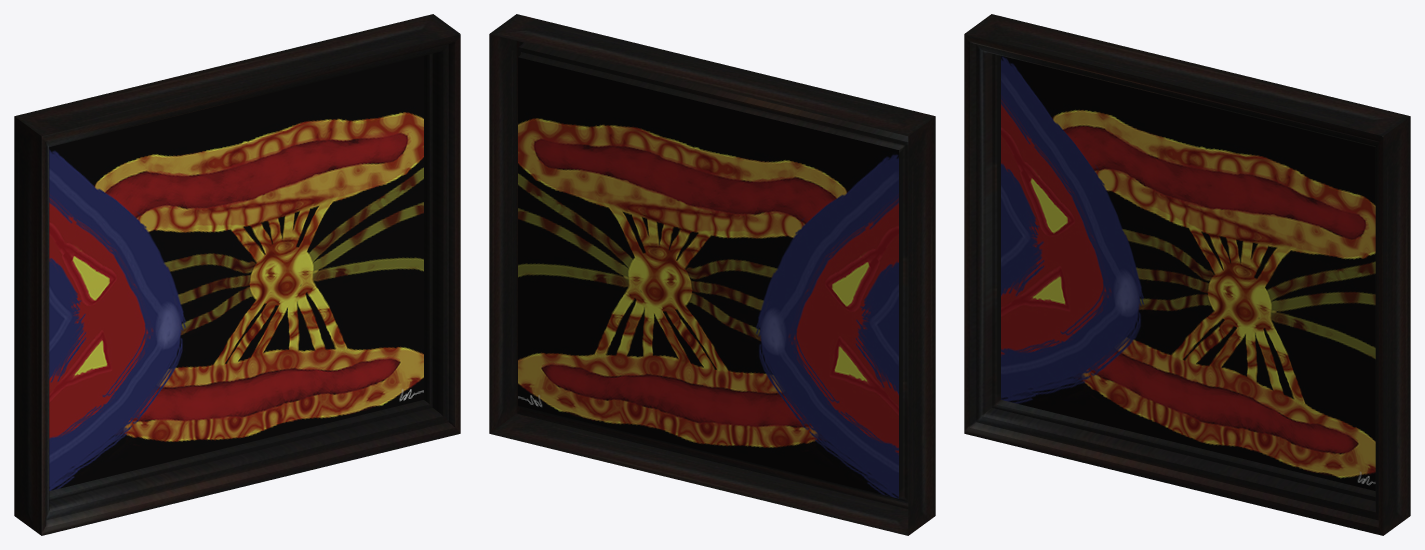
The model's file is RoomArt7K.FBX.
The picture shows the model from 3 angles, left to right: view 1: azimuth 30°, elevation 25°; view 2: azimuth 150°, elevation 25°; view 3: azimuth 330°, elevation 25°; orthographic projection.
Parts seen in each view (by area): view 1: Box001; view 2: Box001; view 3: Box001.
Part boxes in pixels (left/top/right/bottom): Box001: left=14, top=14, right=460, bottom=535; Box001: left=489, top=14, right=935, bottom=535; Box001: left=964, top=14, right=1410, bottom=535.
Bounding box in the file's own units: 102 × 92.75 × 11.53.
